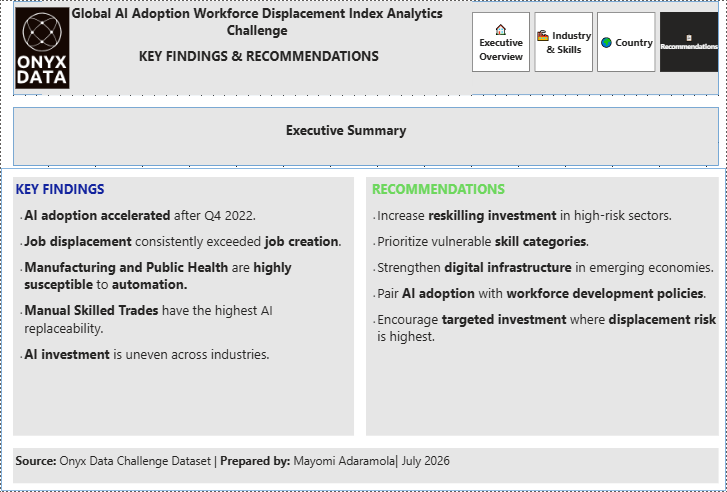

The dashboard page shown, as its layout file describes it:
{"tool":"powerbi","page":{"name":"📋 Recommendations","canvas":[1480,1000],"ordinal":3},"visuals":[{"type":"shape","box":[24,0,1440,192],"z":0},{"type":"shape","box":[24,216,1440,120],"z":1000},{"type":"shape","box":[0,340.8,1479.6,659.2],"z":2000},{"type":"textbox","box":[83.7,0,877.6,191.8],"z":3000},{"type":"image","box":[24,0,120,192],"z":4000},{"type":"pageNavigator","box":[961.2,22.4,502,122.4],"z":5000},{"type":"textbox","box":[216.3,238.8,1095.9,85.7],"z":6000},{"type":"textbox","box":[24,360,696,528],"z":7000},{"type":"textbox","box":[744,360,720,528],"z":8000},{"type":"textbox","box":[24,912,1440,72],"z":9000}]}

Visuals, with their boxes in screenshot pixels (x1, y1, x2, y2), scaled from the page's 1480x1000 canvas onto the 727x492 screenshot:
shape: Rect(12, 0, 719, 94)
shape: Rect(12, 106, 719, 165)
shape: Rect(0, 168, 726, 491)
textbox: Rect(41, 0, 472, 94)
image: Rect(12, 0, 71, 94)
pageNavigator: Rect(472, 11, 719, 71)
textbox: Rect(106, 117, 645, 160)
textbox: Rect(12, 177, 354, 437)
textbox: Rect(365, 177, 719, 437)
textbox: Rect(12, 449, 719, 484)
